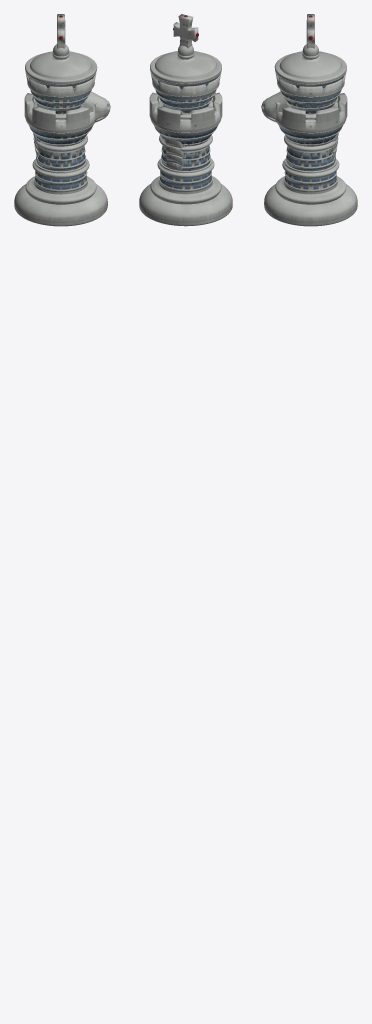
File: estate.glb
3 views of the same model, side by side, from view 1: azimuth 90°, elevation 25°; view 2: azimuth 150°, elevation 25°; view 3: azimuth 270°, elevation 25° (orthographic).
Visible parts, largest first — view 1: estate_king, estate_rook, estate_queen, estate_knight; view 2: estate_king, estate_rook, estate_queen, estate_knight; view 3: estate_king, estate_rook, estate_queen, estate_knight.
Boxes of the visible parts, <box> form: estate_king: <box>14,14,107,226</box>; estate_rook: <box>24,93,96,194</box>; estate_queen: <box>25,44,96,204</box>; estate_knight: <box>32,91,110,177</box>; estate_king: <box>139,14,232,226</box>; estate_rook: <box>149,92,222,194</box>; estate_queen: <box>150,45,221,204</box>; estate_knight: <box>157,93,215,177</box>; estate_king: <box>264,14,357,226</box>; estate_rook: <box>275,93,347,194</box>; estate_queen: <box>275,44,345,204</box>; estate_knight: <box>261,91,339,177</box>.
Bounding box in the file's own units: 0.5279 × 6.19 × 0.5438.
2 materials, 2 textured.
